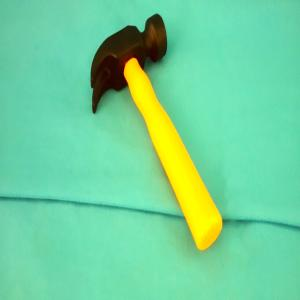martelo: (91, 14, 222, 250)
